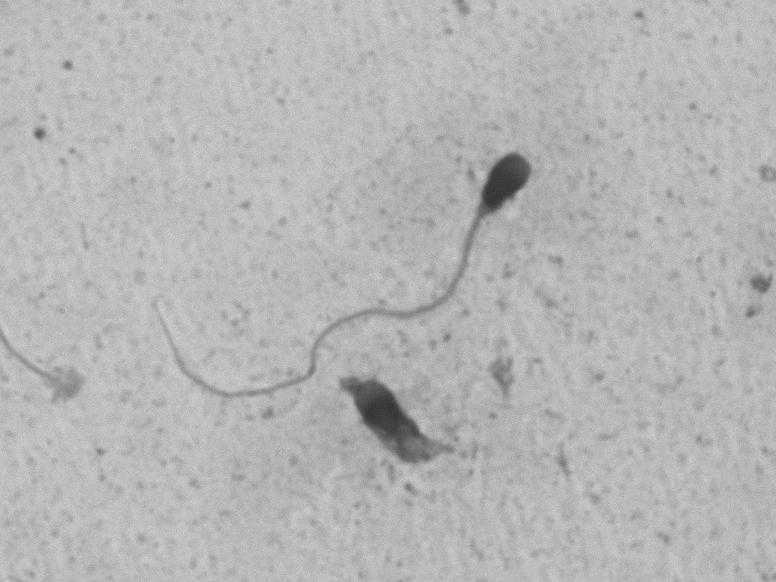Abnormal: (120, 126, 568, 410)
